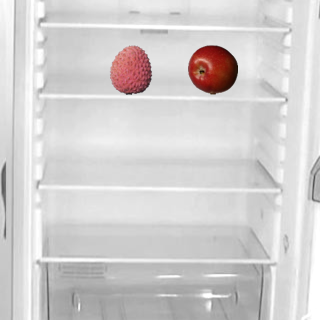Apple Braeburn: (187, 44, 237, 94)
Lychee: (105, 44, 155, 94)
